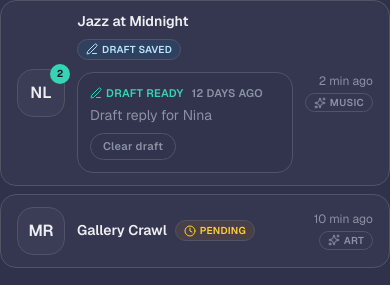
ConversationList › surfaces saved drafts when enabled
Expected: the text "Draft ready" is shown, [90,84,184,101]
Expected: the text "Draft reply for Nina" is shown, [90,106,212,124]
Click the button "Clear draft" at (133, 146), box [90,133,176,160]
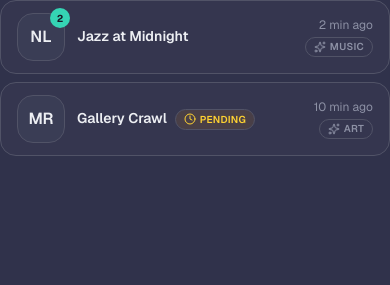
Now the text "Draft reply for Nina" is gone
